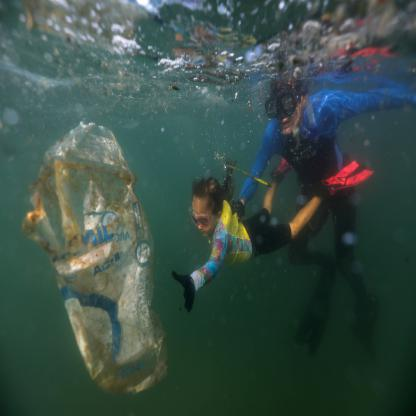waste: (27, 122, 168, 394)
